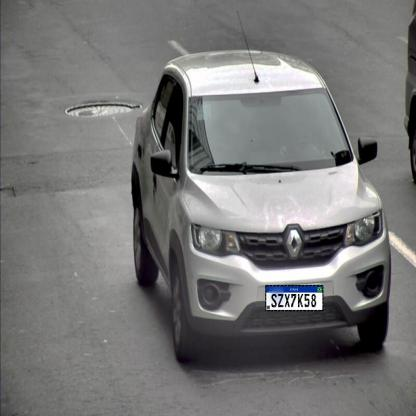PlacaM: (266, 285, 324, 311)
